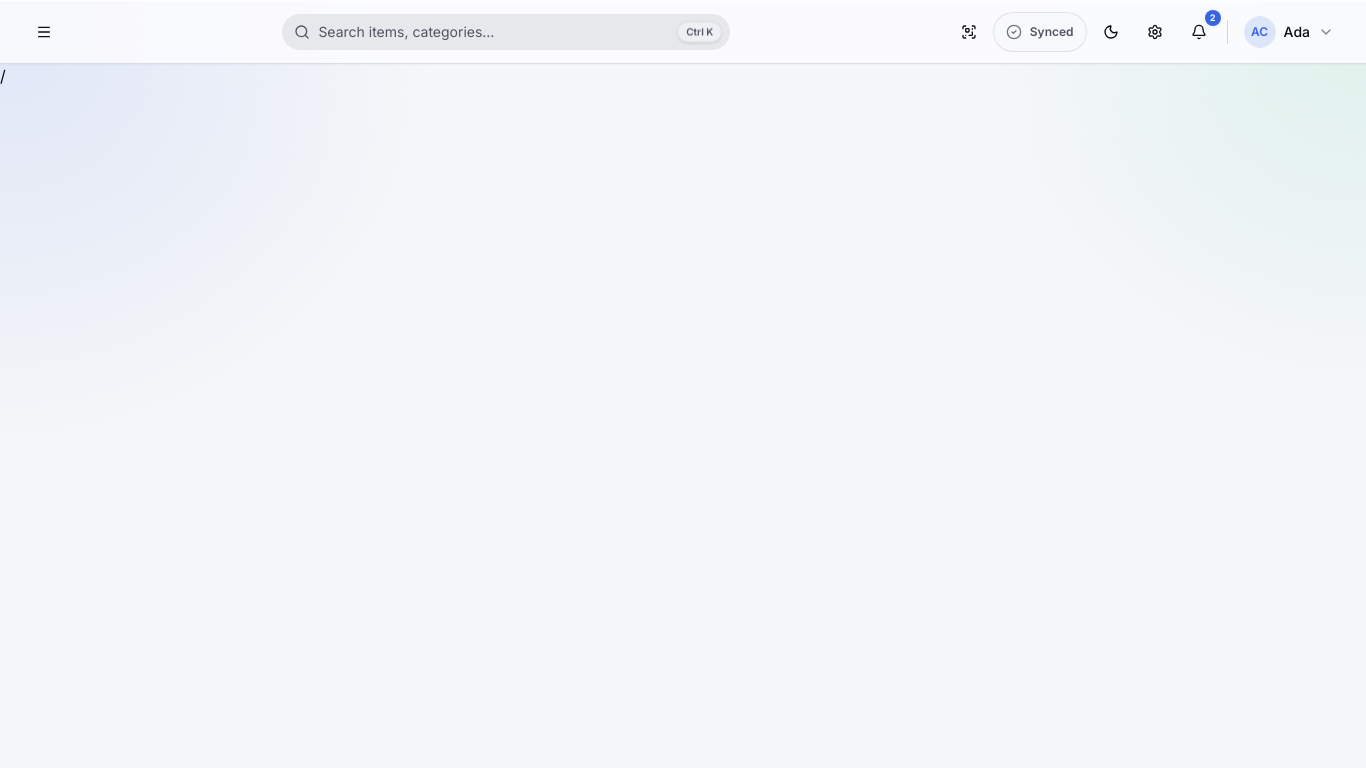
Test: topbar navigation & search › hides reminders when loan & maintenance reminders are turned off
Click the button named "open notifications".
click(1199, 32)  # box left=1179, top=12, right=1219, bottom=52
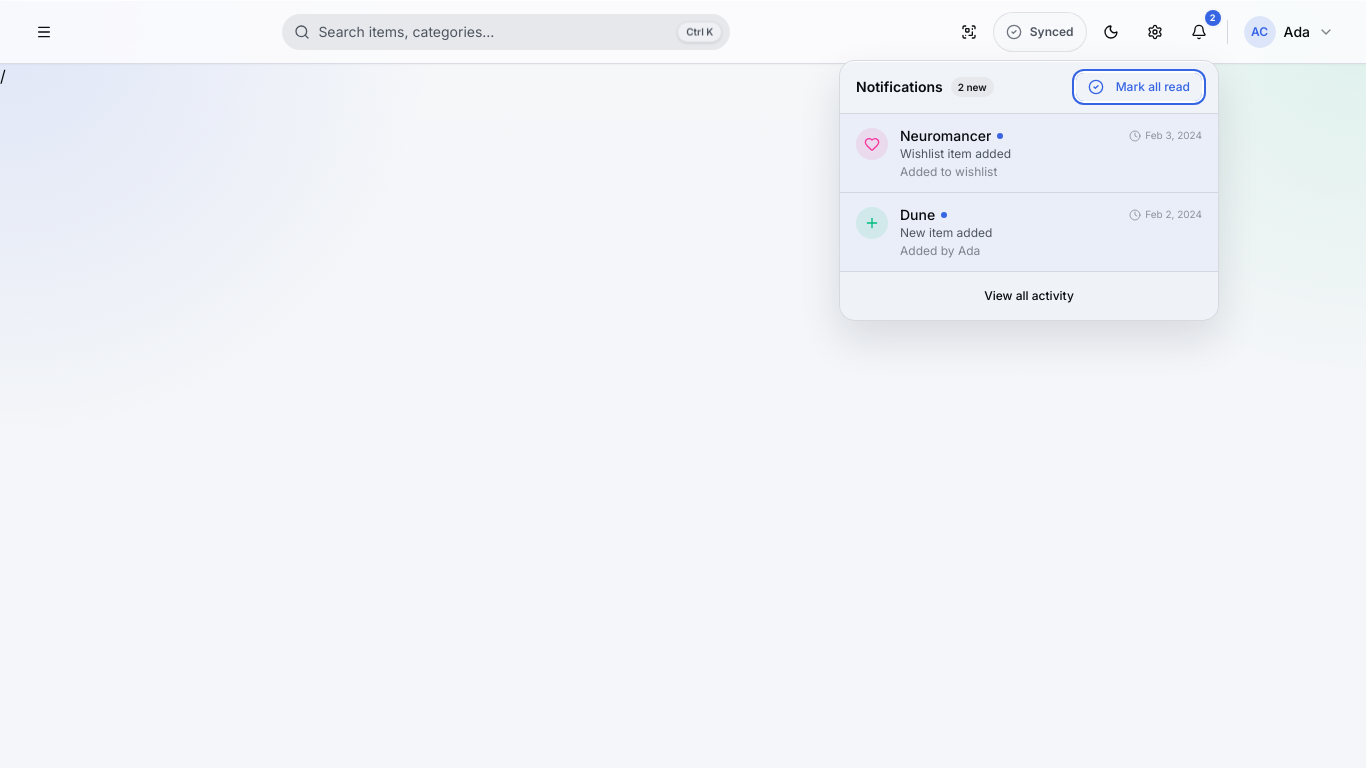
Expected: the heading "Notifications" is shown, left=856, top=77, right=943, bottom=97
